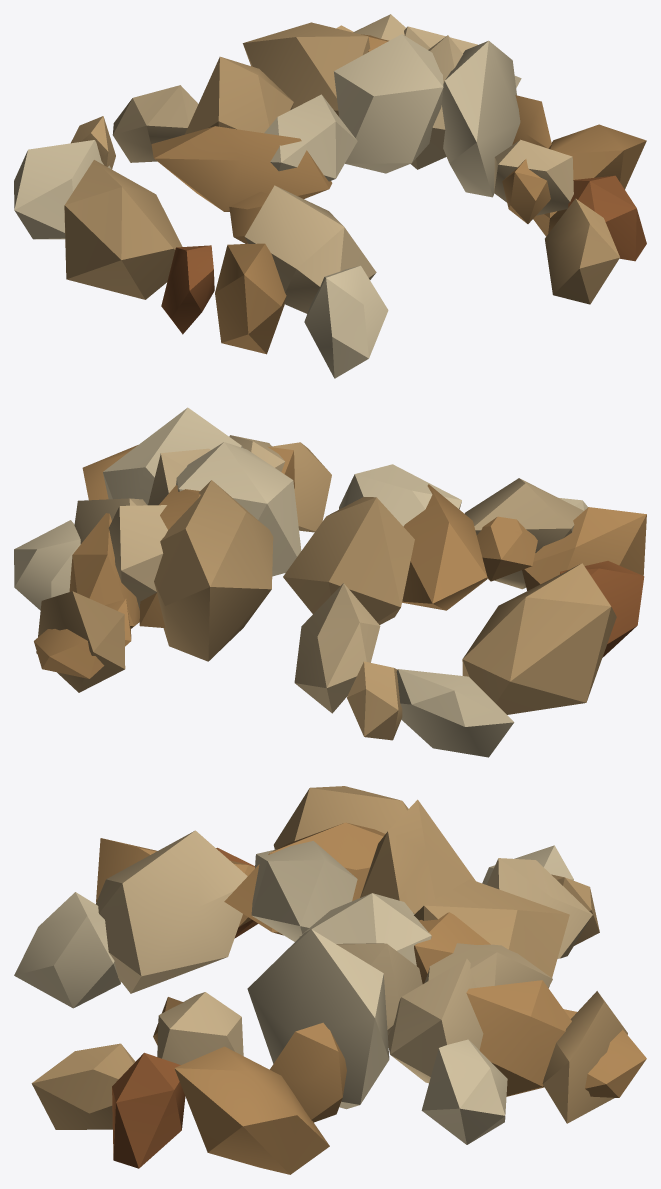
File: topping-amendoim.glb
3 views of the same model, one above another, from view 1: azimuth 30°, elevation 25°; view 2: azimuth 150°, elevation 25°; view 3: azimuth 270°, elevation 25° (orthographic). The views are drawn at different scales.
Parts seen in each view (by area): view 1: topping-amendoim; view 2: topping-amendoim; view 3: topping-amendoim.
Part boxes in pixels (x1,y1,x2,y2): topping-amendoim: (14,14,646,378); topping-amendoim: (14,407,646,757); topping-amendoim: (14,786,646,1174).
Size of the model in its own units: 0.019 by 0.00657 by 0.0169.
